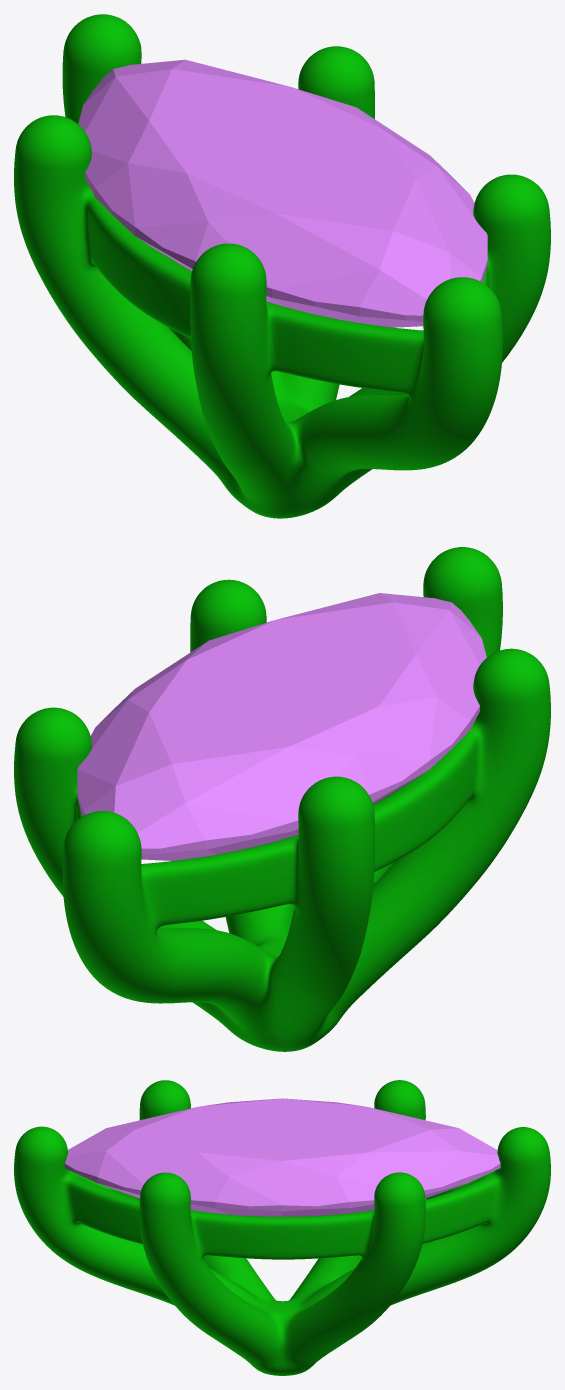
3 renders of one model, top to bottom at view 1: azimuth 30°, elevation 25°; view 2: azimuth 150°, elevation 25°; view 3: azimuth 270°, elevation 25°, orthographic. The views are drawn at different scales.
Visible parts, largest first — view 1: Metal01, Diamond_Marquise; view 2: Metal01, Diamond_Marquise; view 3: Metal01, Diamond_Marquise.
Boxes of the visible parts, x1,y1,x2,y2 form: Metal01: (14,14,550,518); Diamond_Marquise: (78,59,487,327); Metal01: (14,547,550,1051); Diamond_Marquise: (77,593,486,860); Metal01: (14,1080,550,1375); Diamond_Marquise: (64,1098,500,1216).
Bounding box in the file's own units: 5.48 × 5.41 × 10.85.
